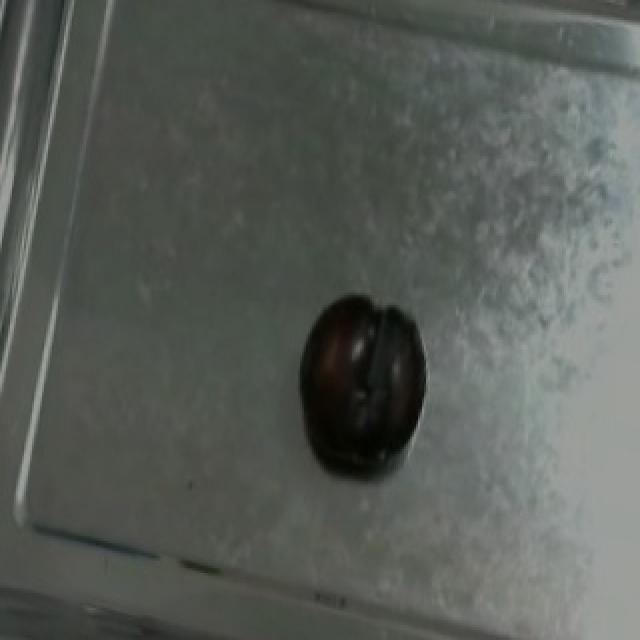Fruit: (284, 285, 428, 474)
